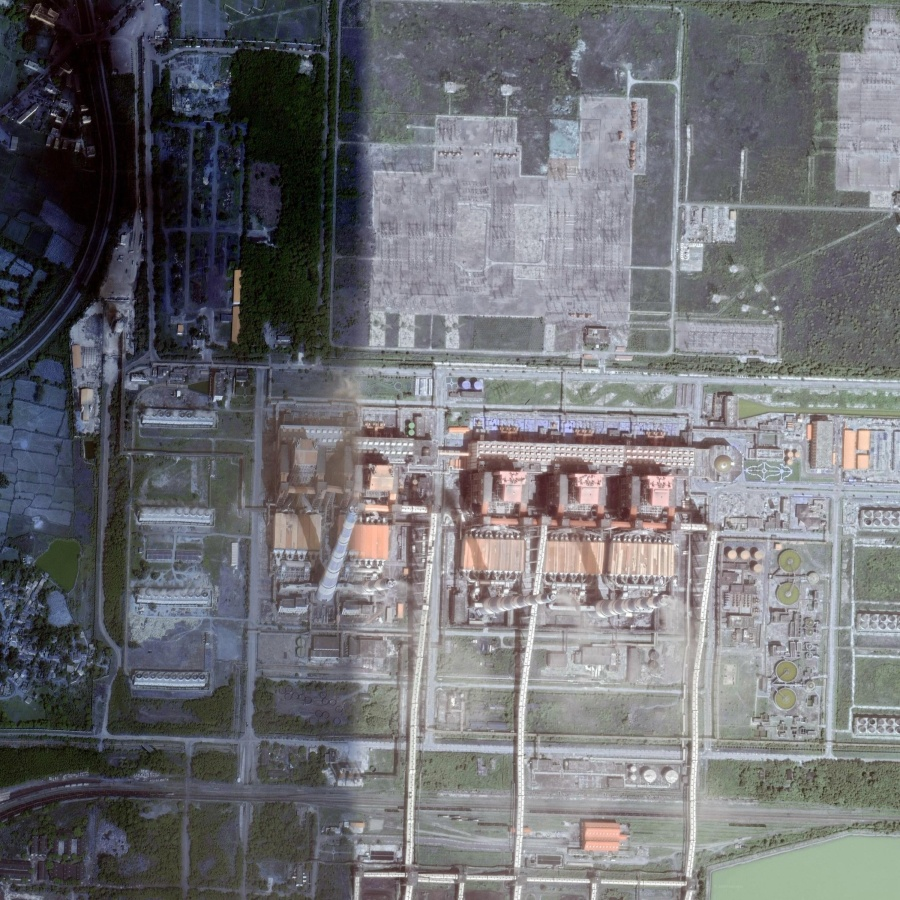PowerPlant: (248, 359, 710, 701)
